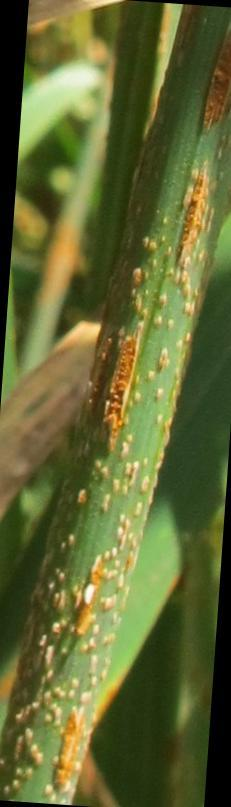Wheat: (32, 28, 228, 566), (10, 566, 125, 799)
